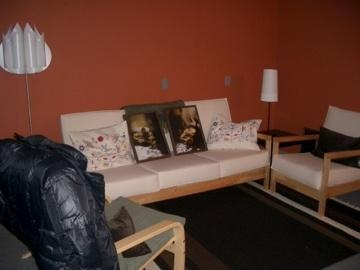chair: (6, 135, 186, 270), (270, 104, 360, 213)
sofa: (56, 103, 277, 197)
